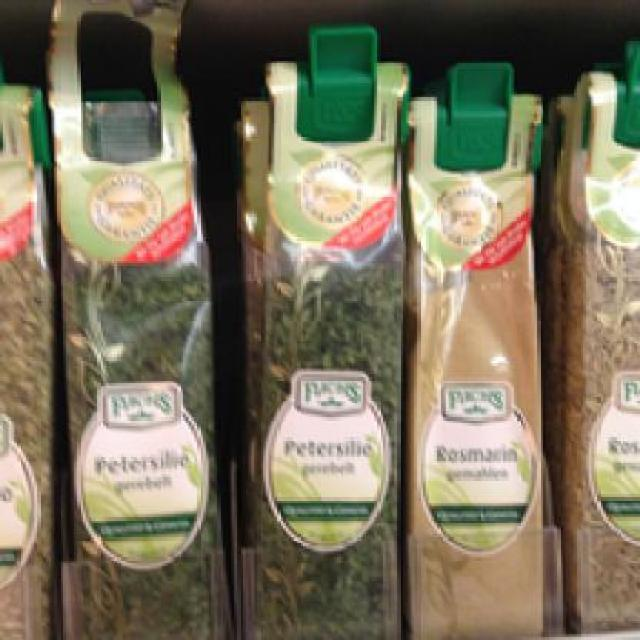Spices: (46, 72, 226, 638), (243, 57, 403, 637), (406, 88, 546, 638), (566, 69, 634, 632)
